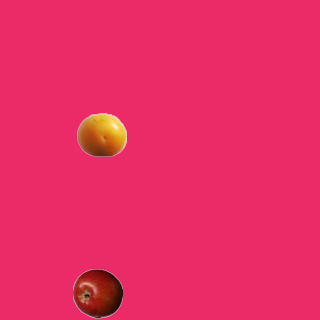Apple Braeburn: (72, 268, 122, 318)
Cherry Wax Yellow: (76, 109, 126, 159)
